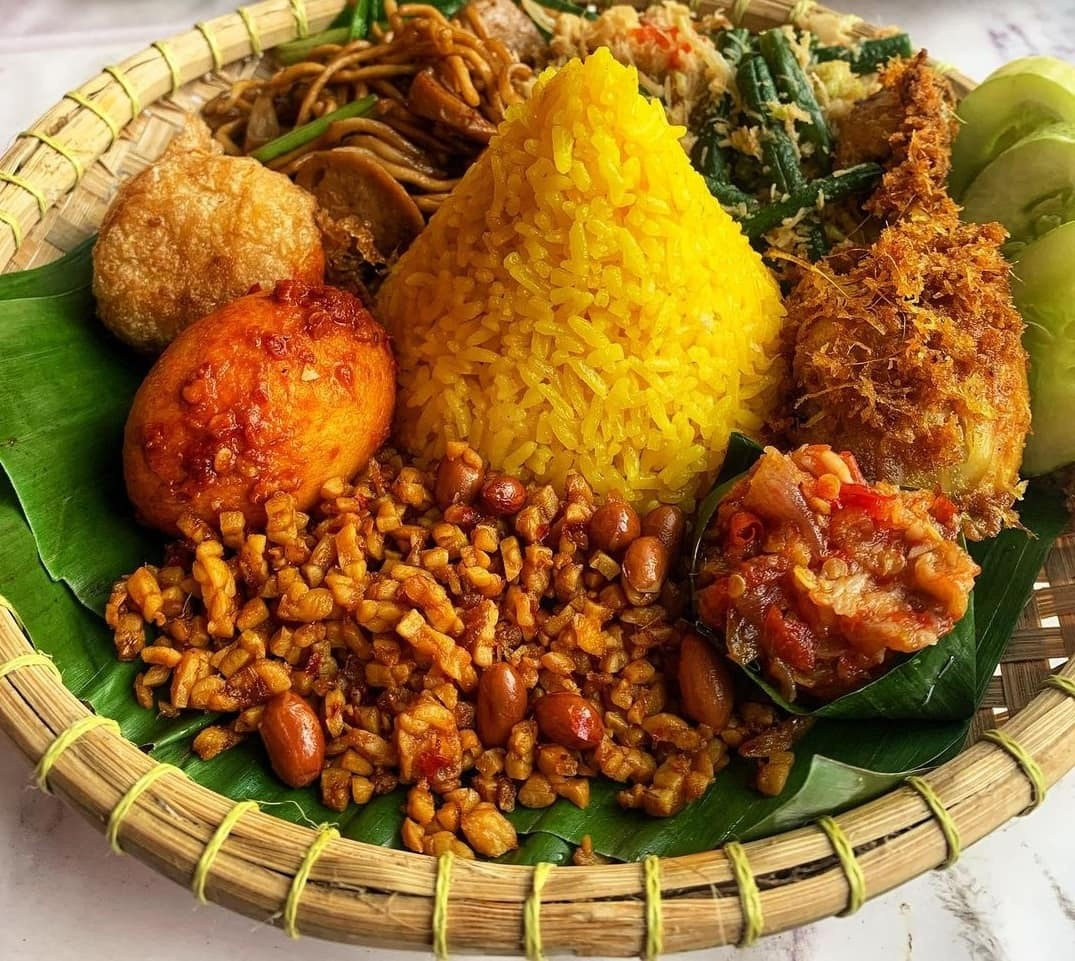tumpeng: (361, 27, 833, 508)
